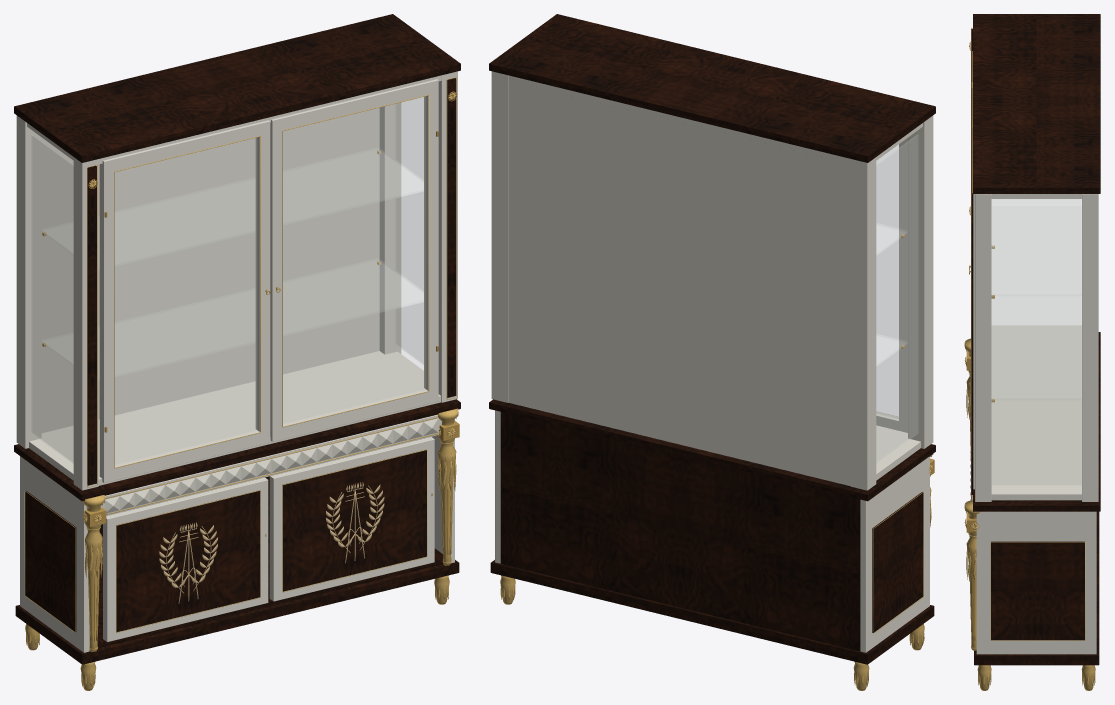
3 renders of one model, left to right at view 1: azimuth 30°, elevation 25°; view 2: azimuth 150°, elevation 25°; view 3: azimuth 270°, elevation 25°, orthographic. The views are drawn at different scales.
Visible parts, largest first — view 1: Belgravia glazed display cabinet | dining-22 web batch; view 2: Belgravia glazed display cabinet | dining-22 web batch; view 3: Belgravia glazed display cabinet | dining-22 web batch.
Part boxes in pixels (x1,y1,x2,y2): Belgravia glazed display cabinet | dining-22 web batch: [14, 14, 460, 690]; Belgravia glazed display cabinet | dining-22 web batch: [489, 14, 935, 690]; Belgravia glazed display cabinet | dining-22 web batch: [964, 14, 1100, 690].
Bounding box in the file's own units: 1.54 × 2.1 × 0.51.
Materials: 9 (2 with a texture image).
